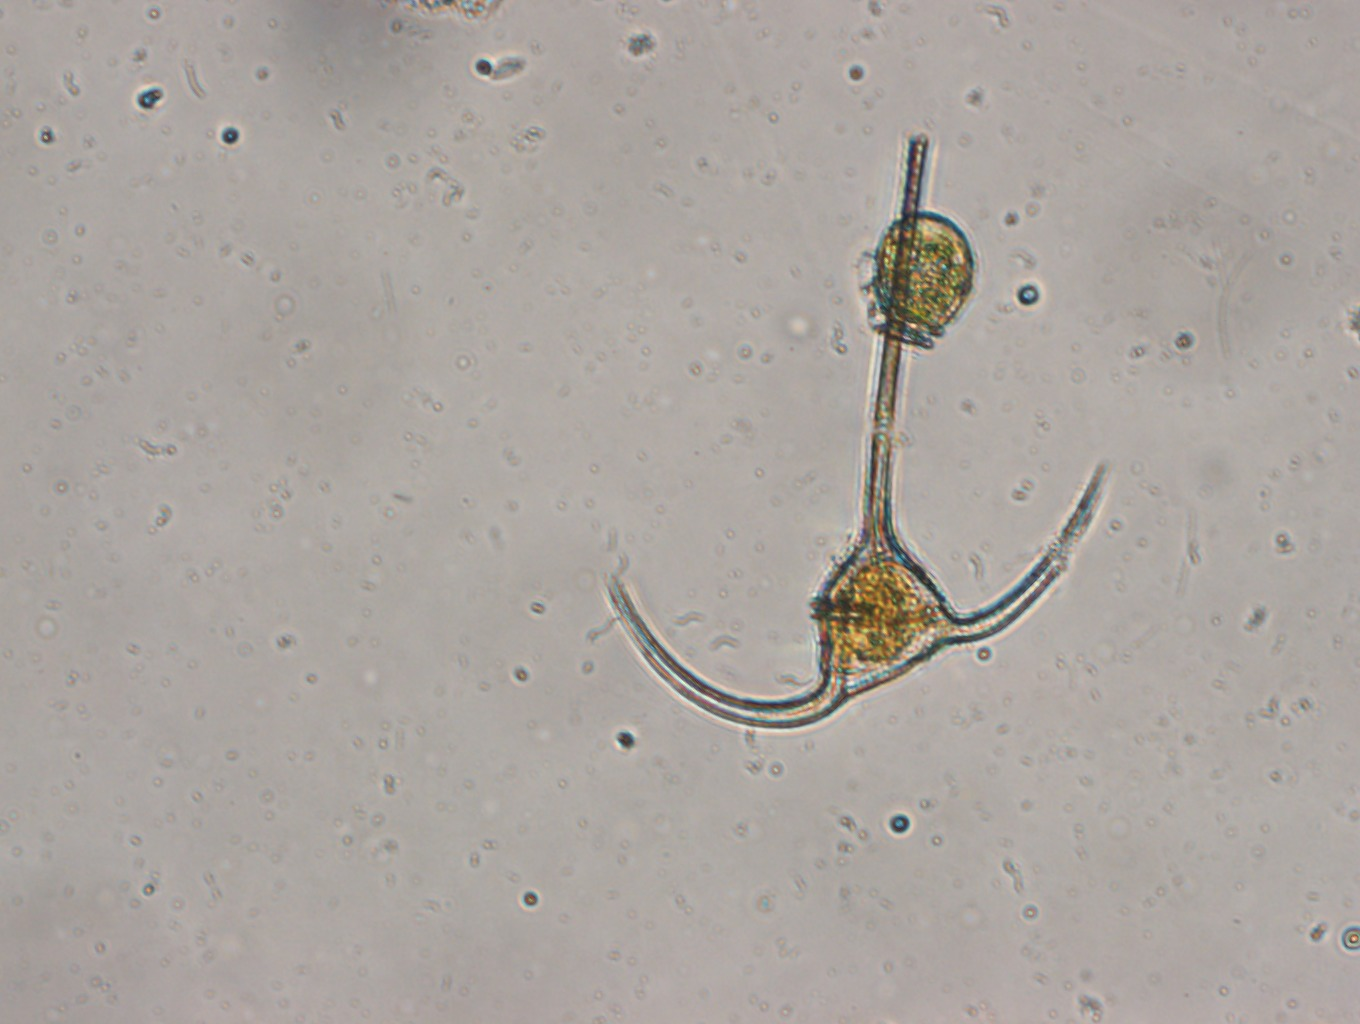ceratium trichoceros: (597, 127, 1112, 733)
